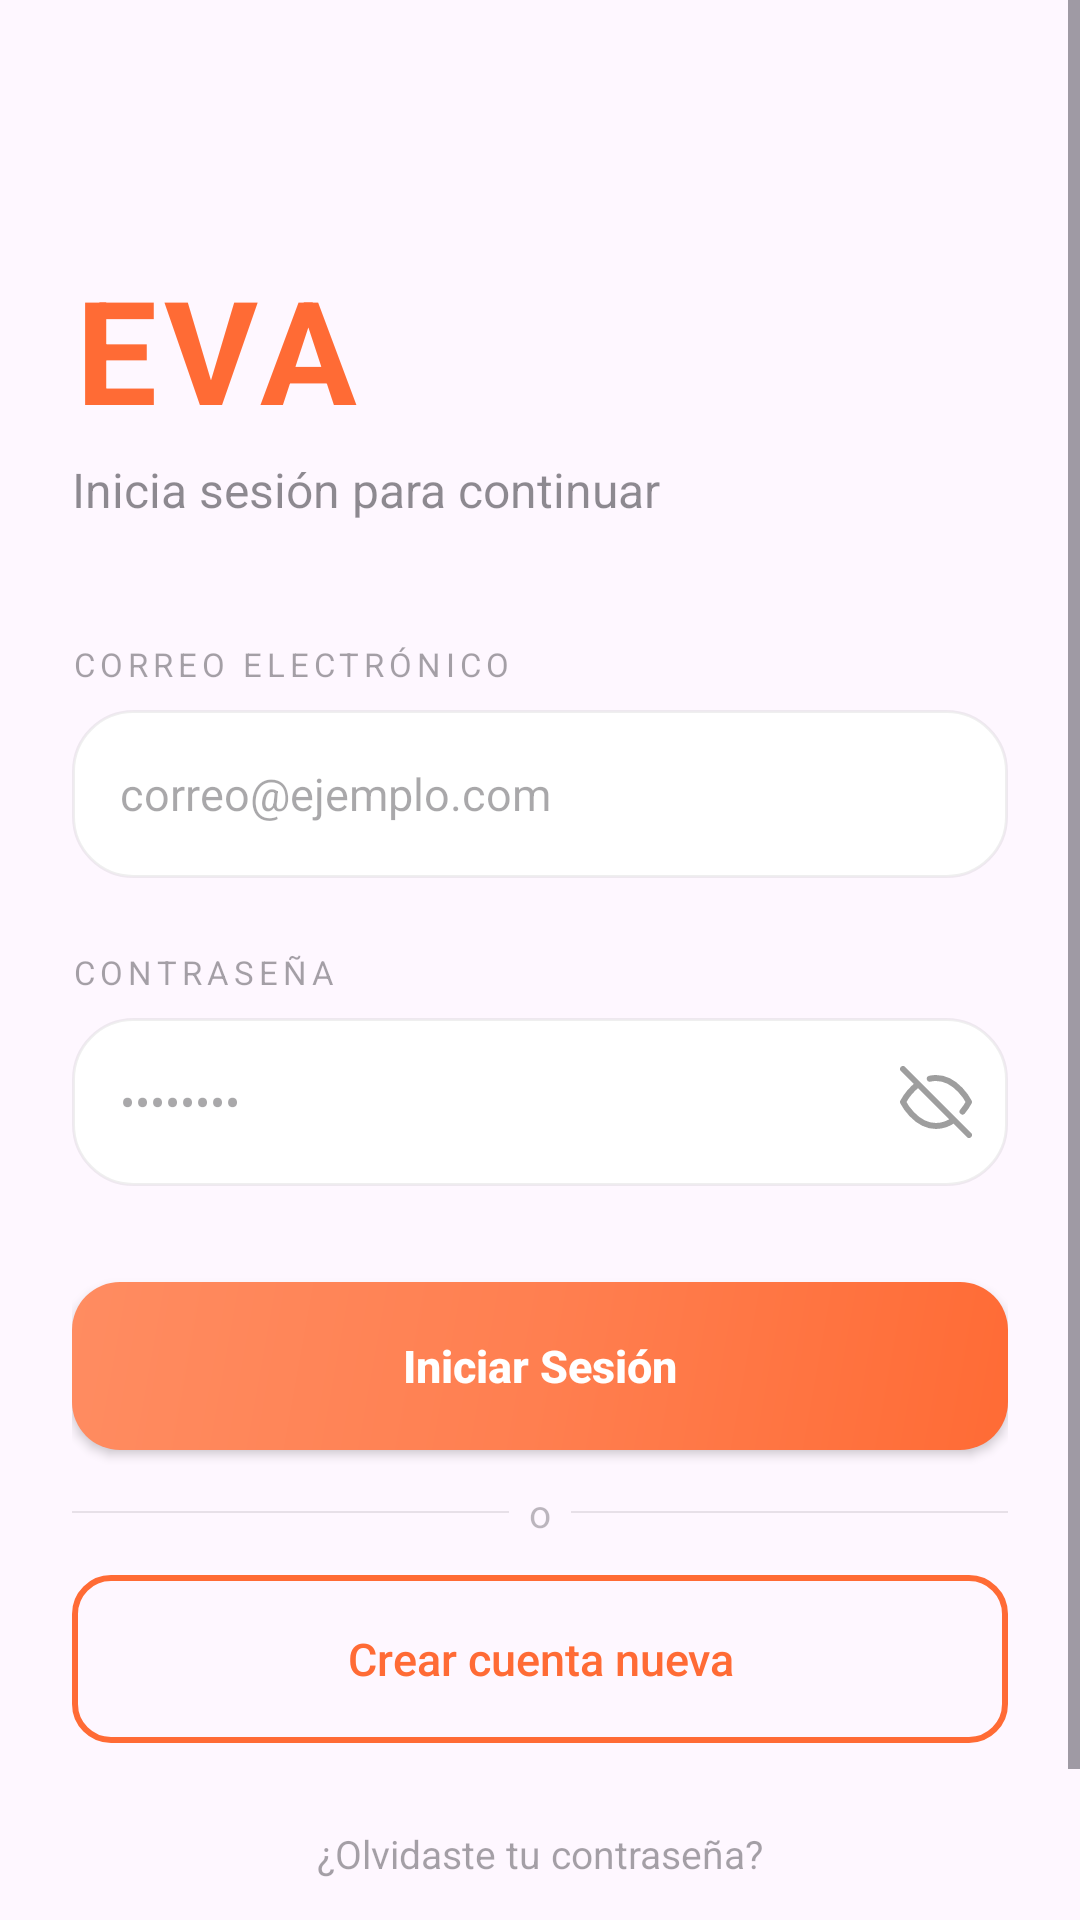

Icon click points for this 1080px×1920px phone screenshot, format (x=x, y=y):
Mostrar contraseña: (x=936, y=1102)
